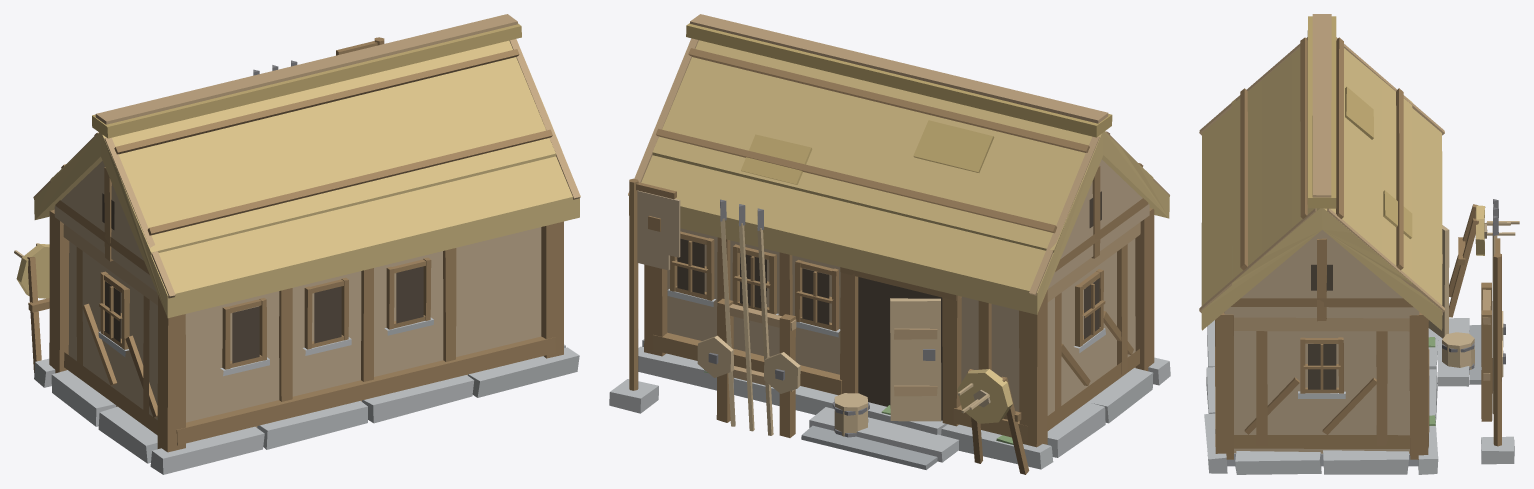
3 views of the same model, side by side, from view 1: azimuth 30°, elevation 25°; view 2: azimuth 150°, elevation 25°; view 3: azimuth 270°, elevation 25° (orthographic). The views are drawn at different scales.
Visible parts, largest first — view 1: br_building; view 2: br_building; view 3: br_building.
Part boxes in pixels (x1,y1,x2,y2): br_building: (14,14,580,474); br_building: (609,14,1170,474); br_building: (1199,14,1519,474).
Bounding box in the file's own units: 4.01 × 2.82 × 2.94.
